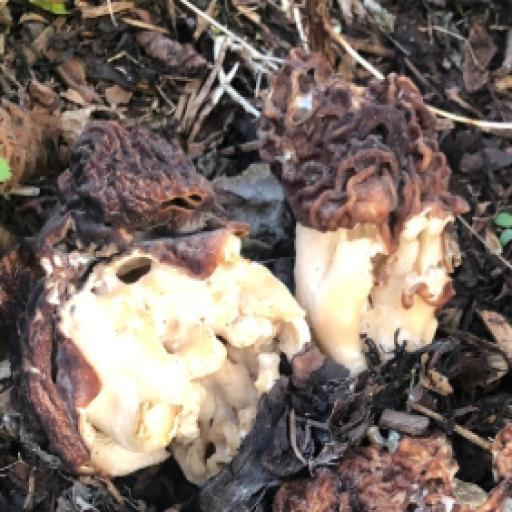mushroom: (221, 13, 506, 384), (51, 111, 232, 250)
